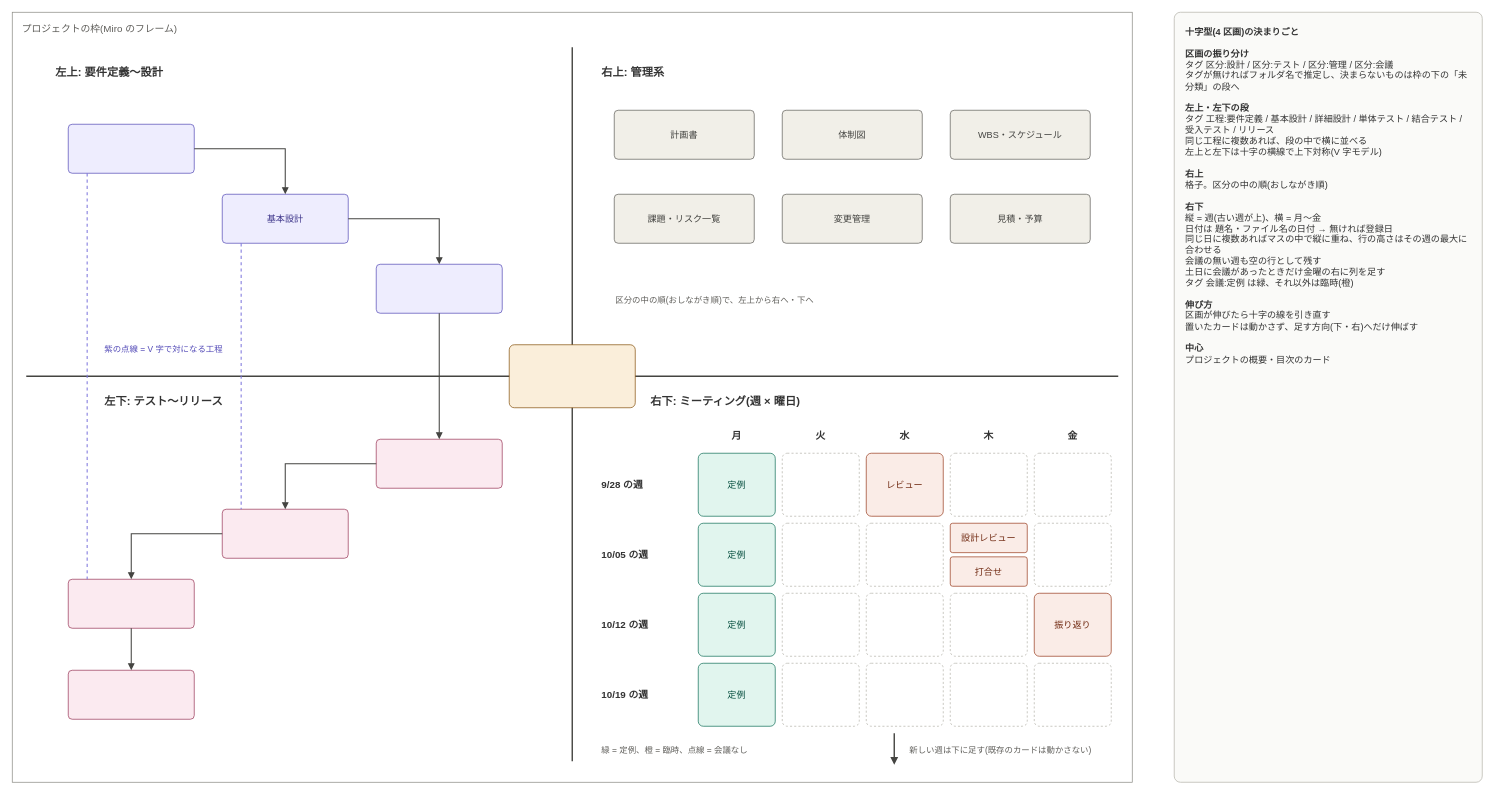
The diagram is 1495 pixels wide and 795 high, and some of its shapes have lost their labels. Here are the shapes that lost their labels. From the top down, the centre of each, then its label:
At (x=131, y=148): "要件定義".
At (x=439, y=288): "詳細設計".
At (x=572, y=376): "プロジェクト名 概要・目次".
At (x=439, y=463): "単体テスト".
At (x=285, y=533): "結合テスト".
At (x=131, y=603): "受入テスト".
At (x=131, y=694): "リリース".
